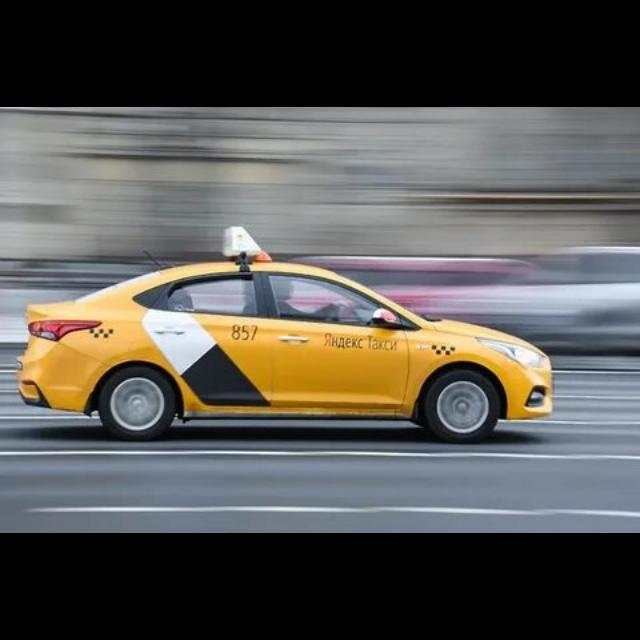taxi: (16, 225, 556, 445)
